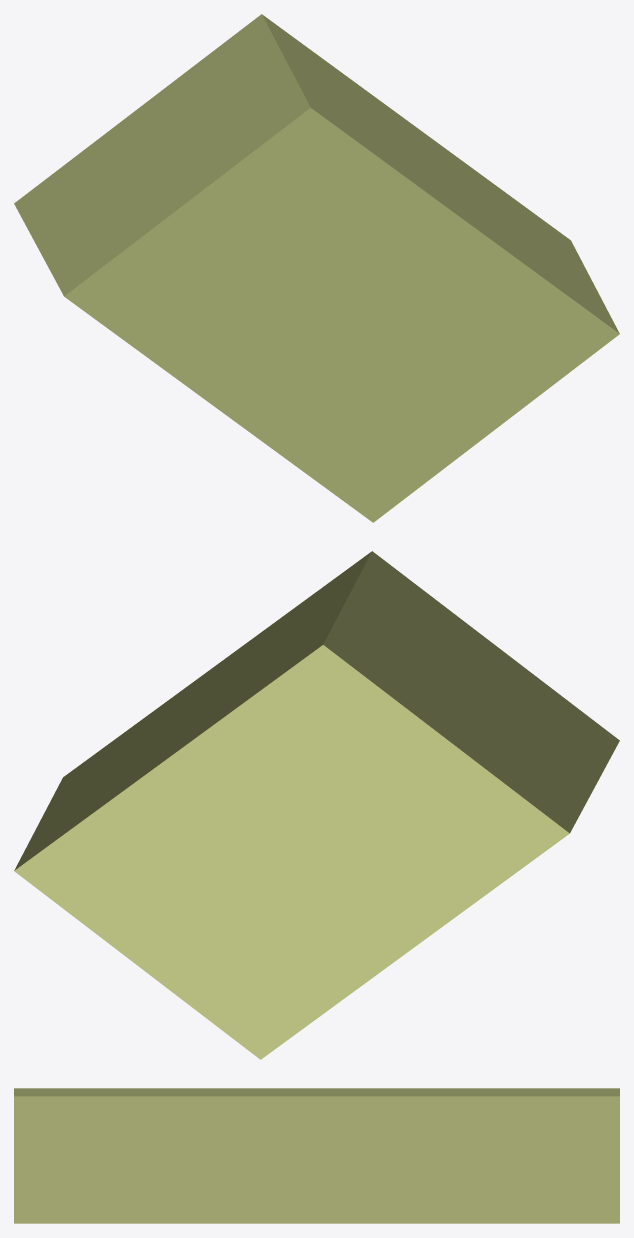
3 views of the same model, one above another, from view 1: azimuth 30°, elevation 25°; view 2: azimuth 150°, elevation 25°; view 3: azimuth 270°, elevation 25° (orthographic). The views are drawn at different scales.
Parts seen in each view (by area): view 1: 0_1_1_3_2_2_3_3_1_3_3_2; view 2: 0_1_1_3_2_2_3_3_1_3_3_2; view 3: 0_1_1_3_2_2_3_3_1_3_3_2.
Part boxes in pixels (<box>): 0_1_1_3_2_2_3_3_1_3_3_2: <box>14,14,619,522</box>; 0_1_1_3_2_2_3_3_1_3_3_2: <box>14,551,619,1059</box>; 0_1_1_3_2_2_3_3_1_3_3_2: <box>14,1088,619,1223</box>.
Bounding box in the file's own units: 4.99 × 3.76 × 9.
